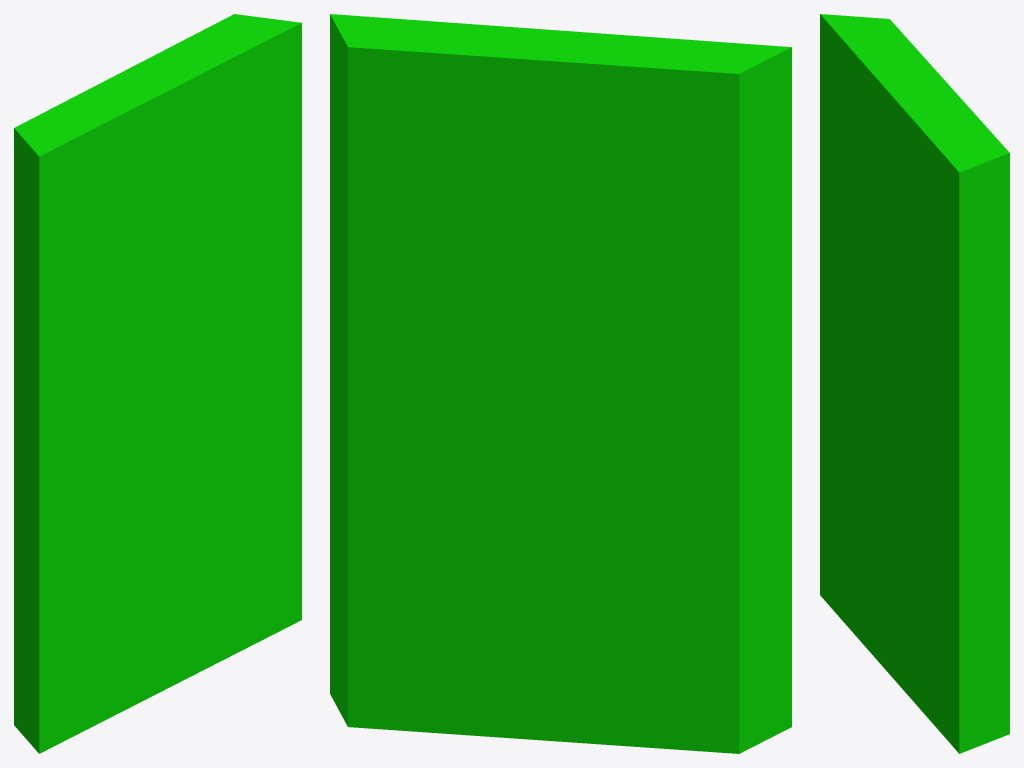
Rendered from sm_castle_048.fbx.
3 views of the same model, side by side, from view 1: azimuth 30°, elevation 25°; view 2: azimuth 150°, elevation 25°; view 3: azimuth 270°, elevation 25° (orthographic). The views are drawn at different scales.
Visible parts, largest first — view 1: sm_castle.048; view 2: sm_castle.048; view 3: sm_castle.048.
Boxes of the visible parts, x1,y1,x2,y2 form: sm_castle.048: (14, 14, 301, 753); sm_castle.048: (330, 14, 791, 753); sm_castle.048: (820, 14, 1009, 753).
Size of the model in its own units: 331 by 565 by 167.
